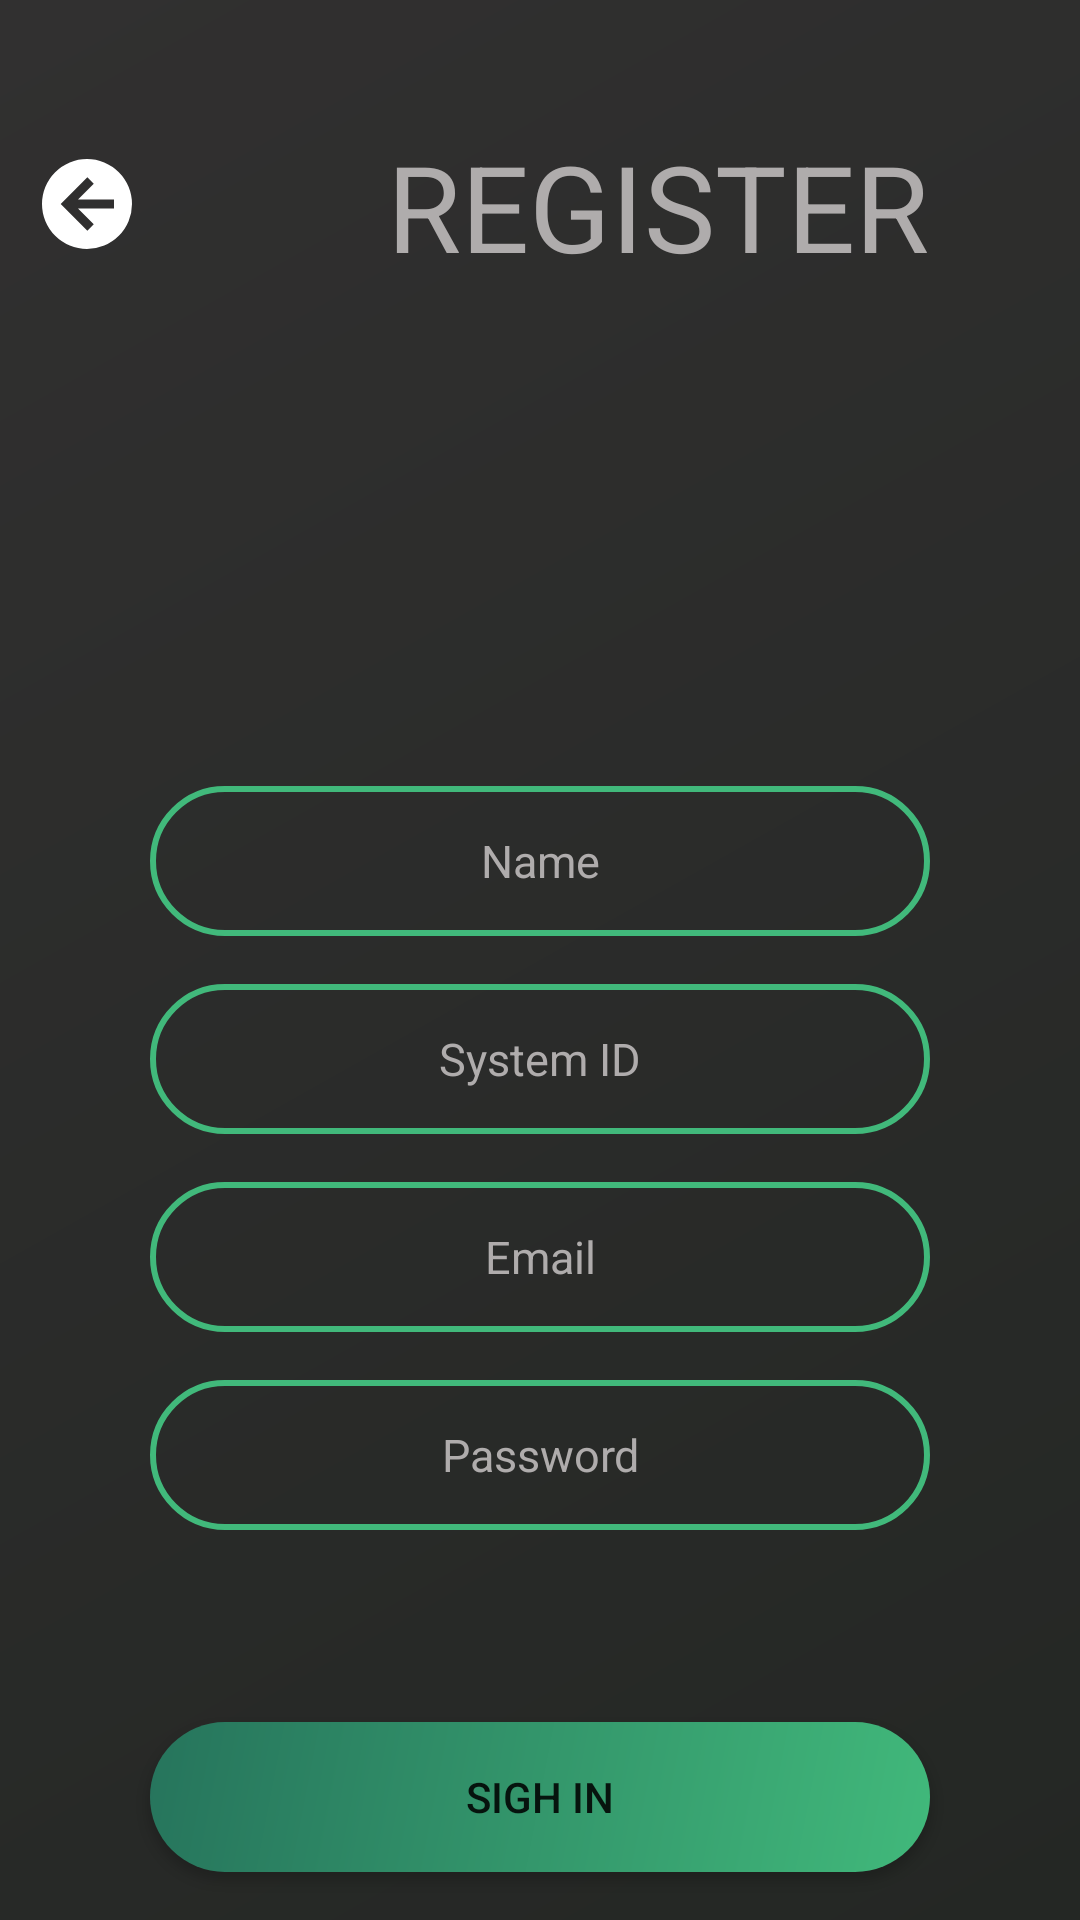

Icons on this 1080*1920 Android screen, each with its box as (x1, y1, x2, y2):
arrow left: (42, 159, 132, 249)
